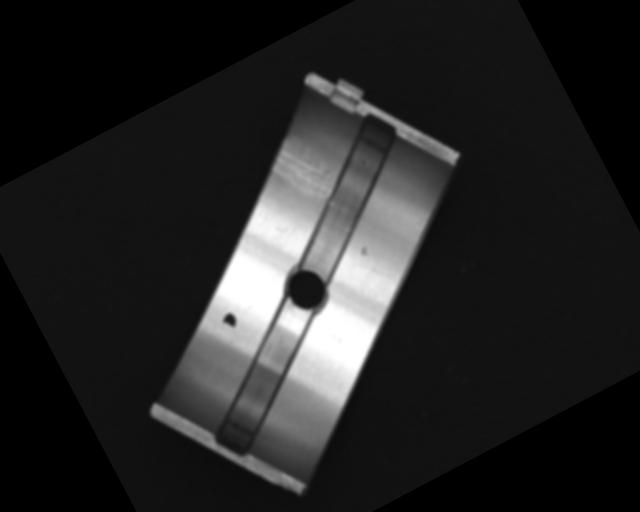blot: (219, 309, 240, 331)
bruise: (358, 244, 371, 257)
gap: (252, 106, 440, 284), (173, 293, 355, 463)
hole: (279, 261, 334, 319)
scratch: (262, 125, 346, 219)
